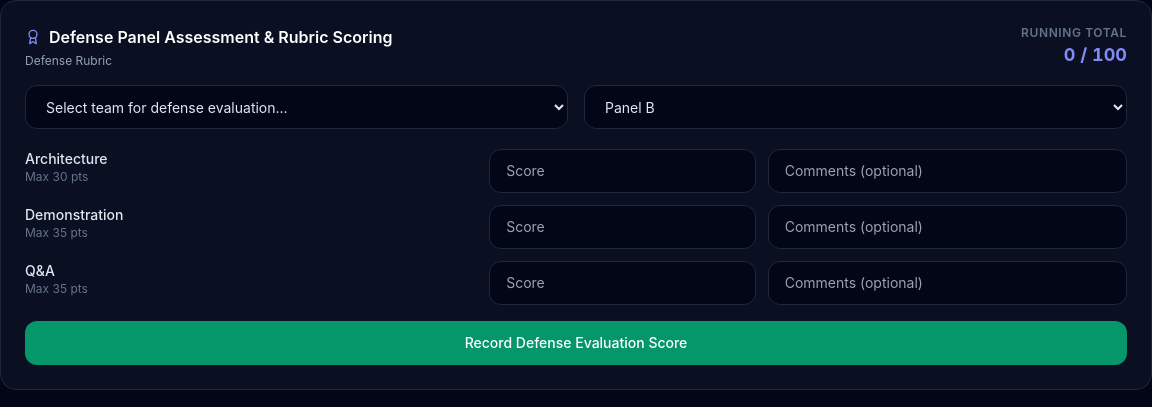
Test: DefenseScoringForm › updates the running total as scores are entered
Expected: the text "Architecture" is shown, [25,150,108,167]
Type "26" into the number field with placeholder "Score" in the row of "Architecture" at (622, 171), box [489,149,756,193]
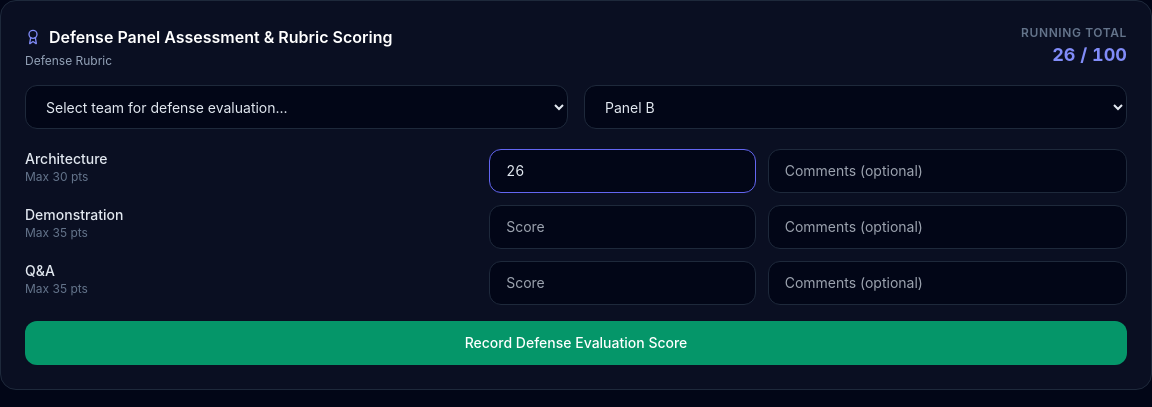
Type "30" into the number field with placeholder "Score" in the row of "Demonstration" at (622, 227), box [489,205,756,249]
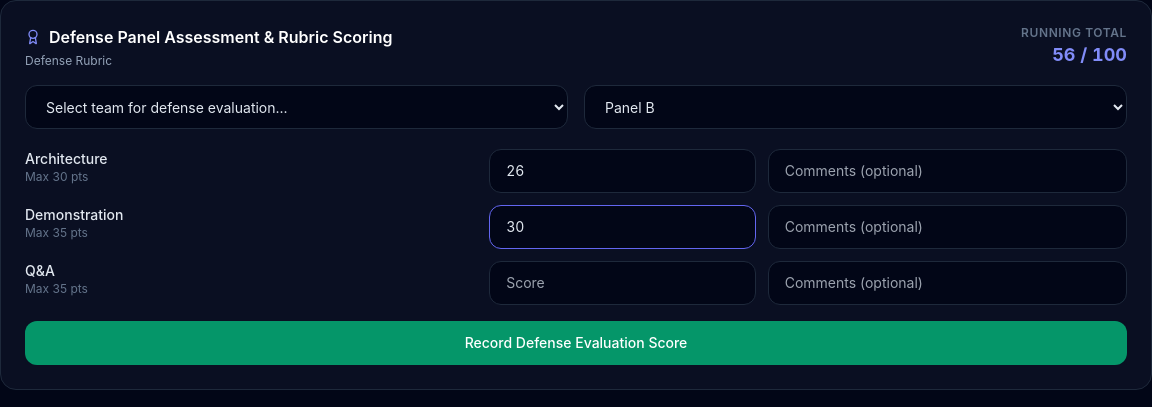
Type "28" into the number field with placeholder "Score" at (622, 283), box [489,261,756,305]
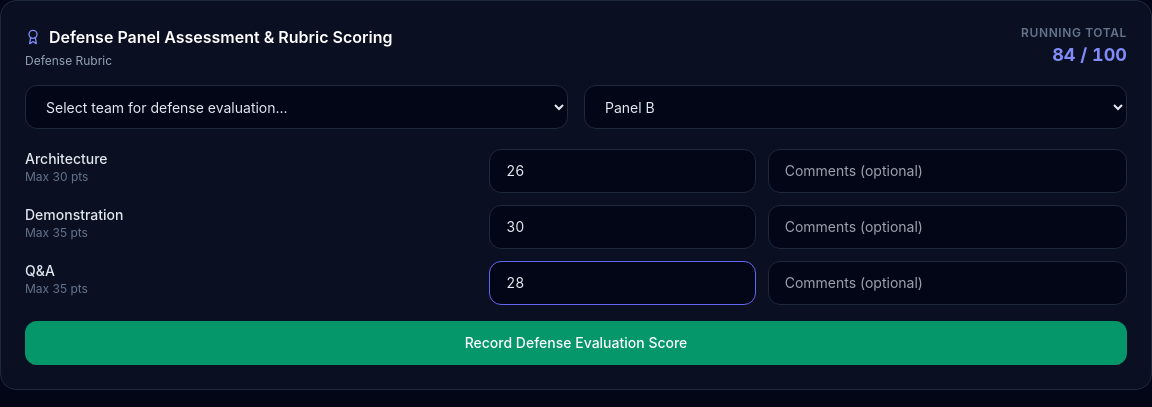
Now the text "84 / 100" is shown, box [1052,44,1127,65]
